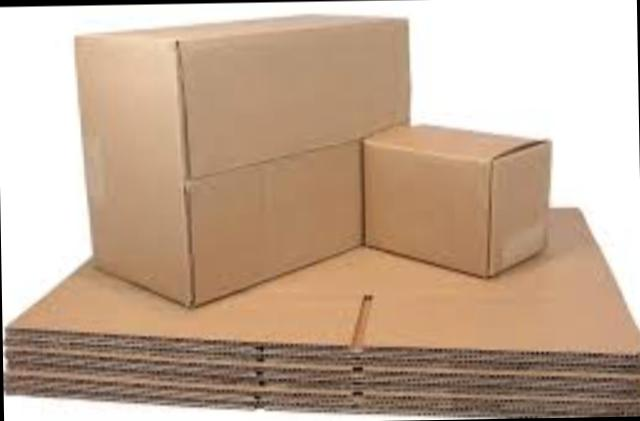cardboard paper: (8, 12, 640, 414), (8, 204, 640, 414)
